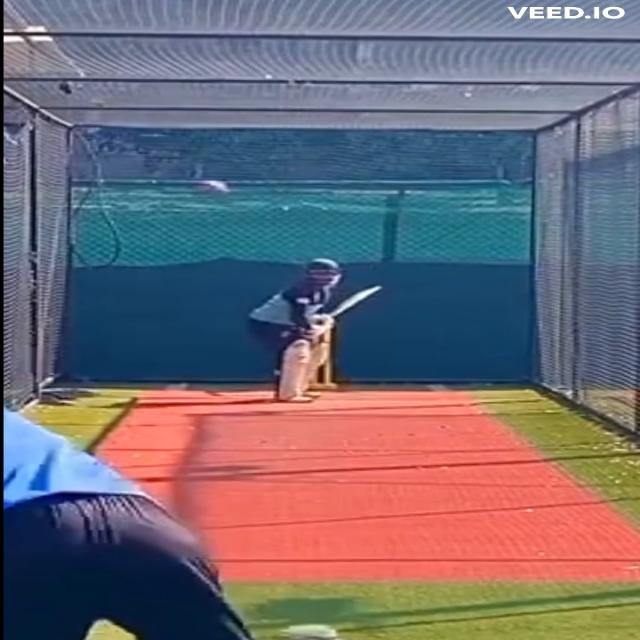ball: (196, 178, 233, 200)
